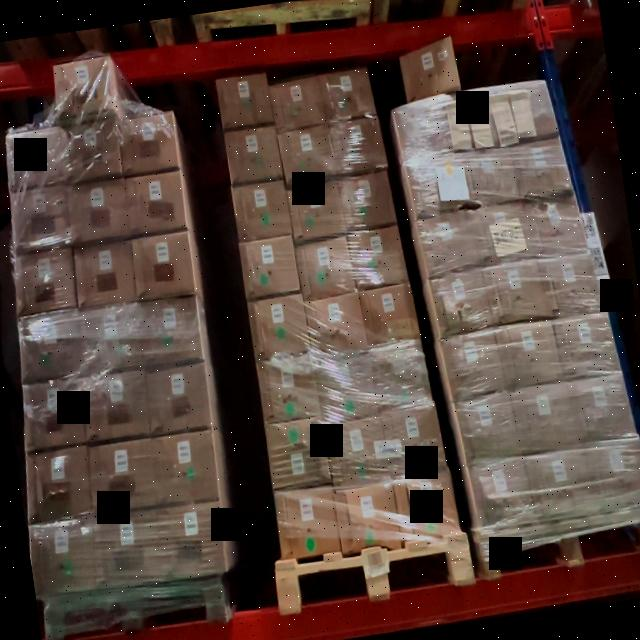box: (21, 376, 87, 452), (94, 512, 162, 584), (266, 418, 330, 492), (275, 488, 340, 557), (147, 363, 210, 434), (31, 527, 96, 595), (90, 444, 158, 509), (17, 308, 80, 378), (86, 374, 150, 441), (156, 432, 218, 501), (326, 414, 387, 484), (529, 450, 589, 521), (26, 452, 89, 519), (167, 503, 225, 575), (334, 484, 397, 550), (396, 473, 458, 540), (118, 108, 178, 176), (504, 320, 564, 388), (257, 355, 319, 420), (12, 249, 74, 312), (132, 236, 195, 296), (8, 189, 72, 248), (295, 238, 355, 300), (382, 409, 442, 471), (457, 400, 519, 460), (144, 298, 202, 362), (82, 309, 143, 369), (470, 461, 530, 522), (6, 128, 70, 185), (306, 296, 366, 356), (75, 244, 134, 304), (52, 59, 116, 114), (362, 284, 417, 348), (126, 176, 186, 234), (288, 182, 346, 242), (399, 44, 465, 96), (240, 238, 298, 296), (278, 124, 336, 182), (316, 355, 375, 412), (418, 214, 478, 270), (522, 390, 576, 452), (580, 379, 634, 440), (499, 83, 557, 139), (217, 74, 274, 130), (251, 298, 308, 354), (374, 350, 429, 408), (69, 185, 128, 239), (397, 102, 456, 155), (518, 137, 570, 197), (563, 316, 617, 373), (483, 204, 538, 259), (342, 176, 396, 232), (225, 133, 283, 185), (431, 276, 489, 328), (455, 92, 505, 152), (234, 184, 290, 237), (443, 339, 501, 390), (408, 160, 472, 206), (594, 444, 640, 508), (352, 231, 406, 285), (496, 268, 550, 320), (538, 198, 586, 255), (548, 255, 598, 309), (324, 70, 376, 121), (70, 121, 120, 174), (469, 152, 519, 202), (274, 80, 326, 128), (331, 122, 384, 167), (504, 81, 506, 82)
